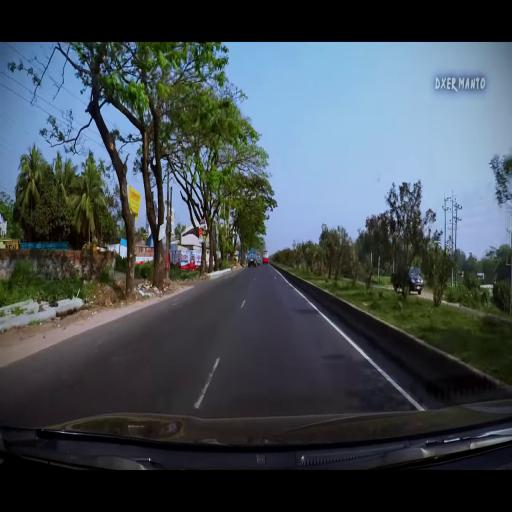bus: (263, 251, 269, 264)
pickup: (391, 266, 424, 294)
truck: (248, 249, 257, 267)
